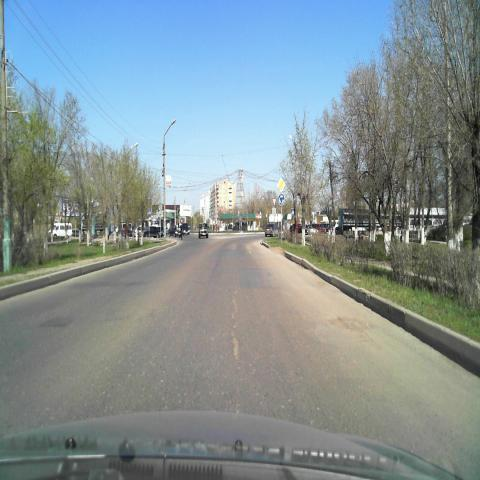2_2: (276, 176, 286, 194)
4_3: (278, 194, 284, 206)
5_19_1: (290, 207, 294, 215)
